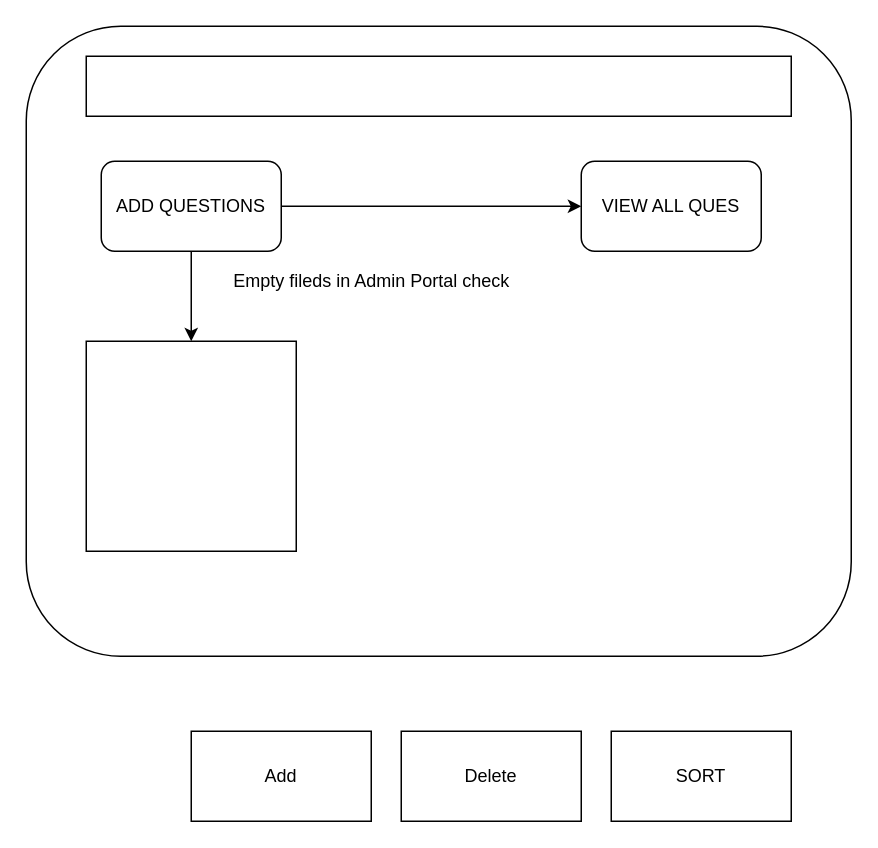
This 878x848 diagram has some shape labels left out. Each missing label, with the centre of its shape:
Admin Dashboard: the point at 438,85
Dropdown - mcq / text Question For MCQ - ADD MCQ's Points for that question: the point at 190,445
